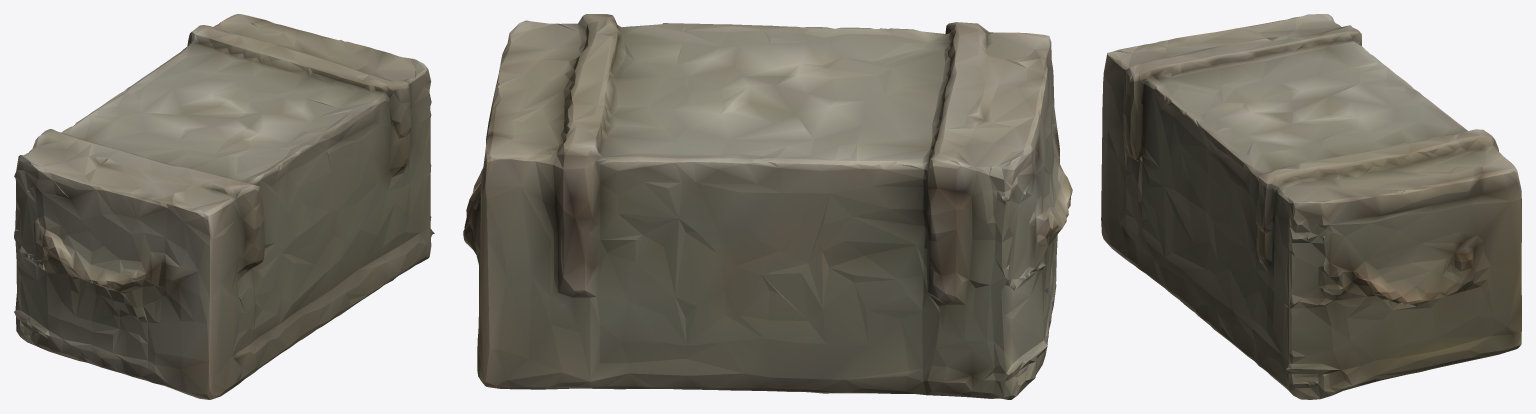
File: model_roblox.glb
3 renders of one model, left to right at view 1: azimuth 30°, elevation 25°; view 2: azimuth 150°, elevation 25°; view 3: azimuth 270°, elevation 25°, orthographic. The views are drawn at different scales.
Parts seen in each view (by area): view 1: world; view 2: world; view 3: world.
Boxes of the visible parts, left/top/right/bottom form: world: left=14, top=14, right=434, bottom=399; world: left=463, top=14, right=1072, bottom=399; world: left=1101, top=14, right=1521, bottom=399.
Size of the model in its own units: 2 by 0.9719 by 1.82.
